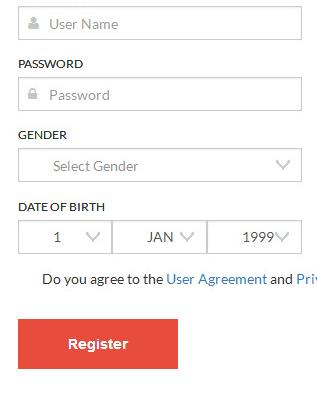button: (17, 318, 179, 369)
field: (15, 4, 303, 41), (17, 148, 304, 183), (17, 76, 303, 111), (17, 219, 113, 255), (207, 219, 302, 255), (113, 219, 207, 255)
field_with_label: (14, 130, 306, 186), (15, 59, 305, 112), (14, 201, 115, 257)
